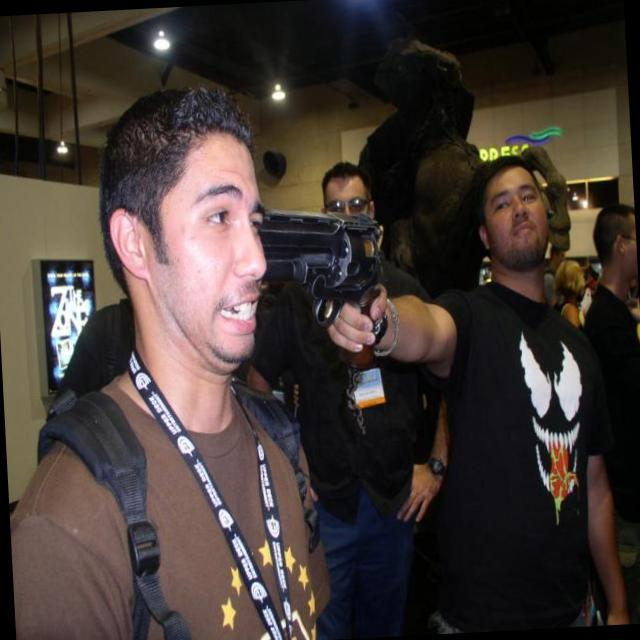Gun: (258, 213, 383, 330)
